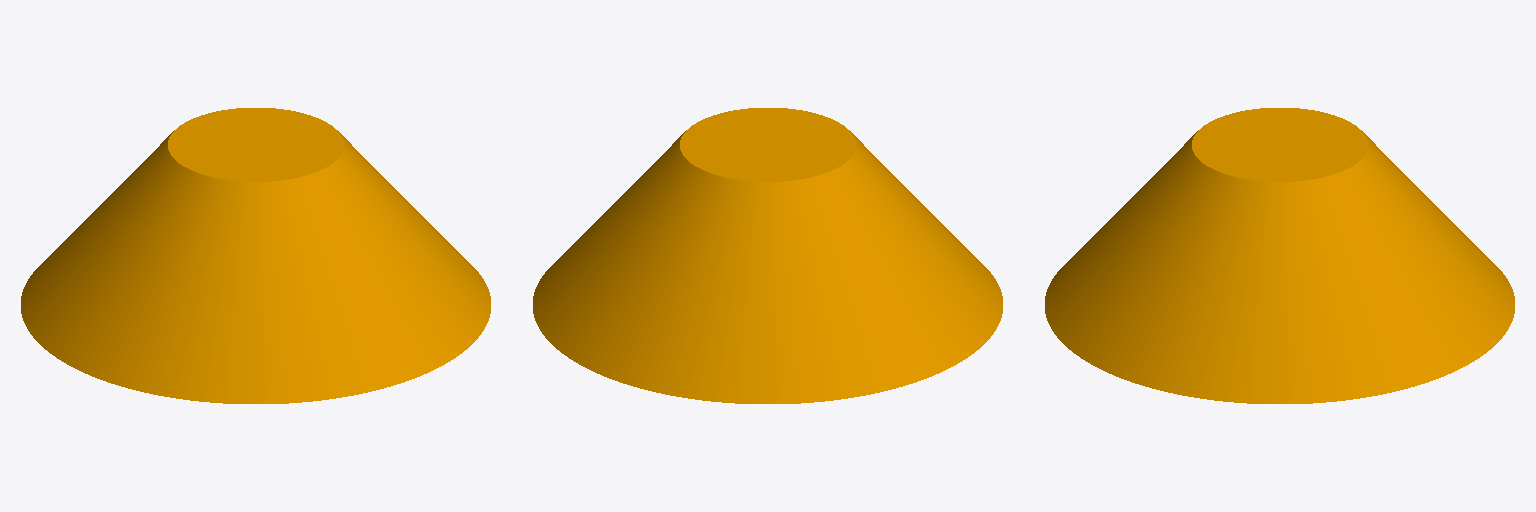
URDF robot description (ConeFrustum):
<?xml version="1.0" ?>
<robot xmlns:xacro="http://www.ros.org/wiki/xacro" name="ConeFrustum">

    <link name="ConeFrustum">
        <inertial>
            <origin xyz="0.0 0.0 0.07" rpy="0 0 0"/>
            <mass value="1.835"/>
            <inertia ixx="0.022" ixy="0.0" ixz="0.0" iyy="0.022" iyz="0.0" izz="0.036"/>
        </inertial>

        <visual>
            <origin xyz="0.0 0.0 0.0" rpy="0.0 0.0 0.0"/>
            <geometry>
                <mesh filename="./meshes/cone_frustum/cone_frustum.obj" scale="1 1 1"/>
            </geometry>
        </visual>

        <collision>
            <origin xyz="0.0 0.0 0.0" rpy="0.0 0.0 0.0"/>
            <geometry>
                <mesh filename="./meshes/cone_frustum/cone_frustum_collision.obj" scale="1 1 1"/>
            </geometry>
        </collision>
    </link>

</robot>

--- Render facts (derived) ---
Views: 3 orthographic renders of the robot side by side, from view 1: azimuth 30°, elevation 25°; view 2: azimuth 150°, elevation 25°; view 3: azimuth 270°, elevation 25°.
Model ConeFrustum with 1 links and 0 joints (none), rooted at ConeFrustum, posed all joints at 0.
Visible links, largest first — view 1: ConeFrustum; view 2: ConeFrustum; view 3: ConeFrustum.
Boxes of the visible links, <box> form: ConeFrustum: <box>21,108,490,403</box>; ConeFrustum: <box>533,108,1002,403</box>; ConeFrustum: <box>1045,108,1514,403</box>.
Bounding box of the posed robot: 0.4 × 0.4 × 0.15 m (x, y, z).
1 mesh visuals loaded from 1 distinct referenced files (1 OBJ).
